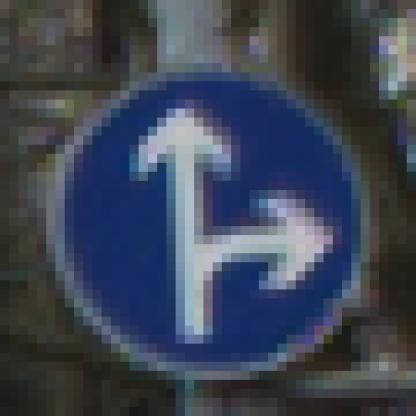Straight or Right: (57, 55, 362, 363)
